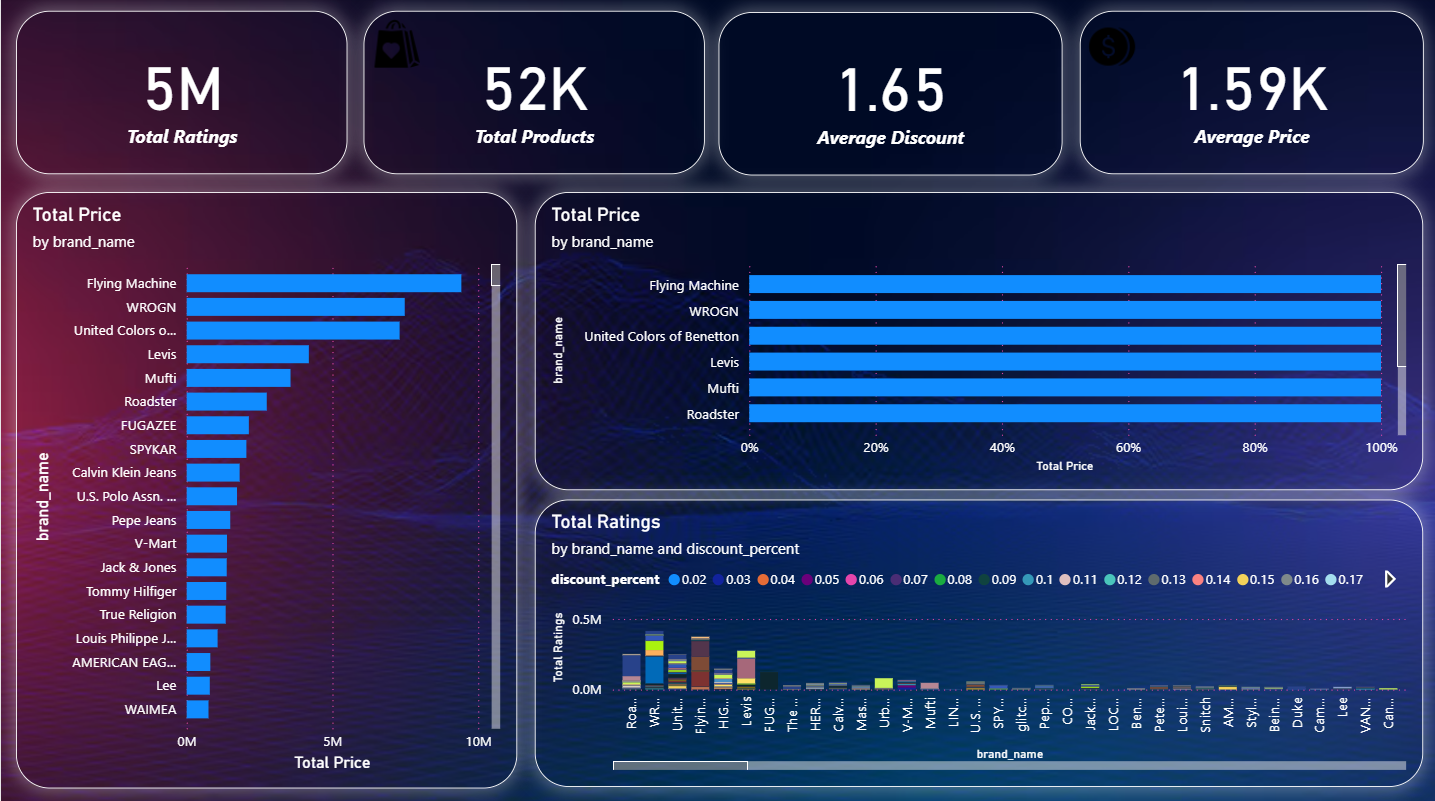

What the dashboard file says about the page in this screenshot:
{"tool":"powerbi","page":{"name":"Product performance","canvas":[1280,720],"ordinal":2},"visuals":[{"type":"card","fields":{"Values":["myntra_dataset_ByScraping.Total Ratings"]},"box":[13.3,12.1,295.6,146],"z":0},{"type":"card","fields":{"Values":["myntra_dataset_ByScraping.Total Products"]},"box":[323.3,12.1,304,146],"z":1000},{"type":"card","fields":{"Values":["myntra_dataset_ByScraping.Average Discount"]},"box":[639.4,13.3,306.4,146],"z":2000},{"type":"card","fields":{"Values":["myntra_dataset_ByScraping.Average Price"]},"box":[960.3,12.1,306.4,146],"z":3000},{"type":"barChart","fields":{"Category":["myntra_dataset_ByScraping.brand_name"],"Y":["myntra_dataset_ByScraping.Total Price"]},"box":[13.3,173.7,446.4,530.8],"z":4000},{"type":"columnChart","fields":{"Category":["myntra_dataset_ByScraping.brand_name"],"Y":["myntra_dataset_ByScraping.Total Ratings"],"Series":["myntra_dataset_ByScraping.discount_percent"]},"box":[475.3,447.5,791.5,256],"z":5000},{"type":"image","box":[323.3,13.3,60.3,54.3],"z":7000},{"type":"image","box":[960.3,13.3,56.7,61.5],"z":8000},{"type":"hundredPercentStackedBarChart","fields":{"Category":["myntra_dataset_ByScraping.brand_name"],"Y":["myntra_dataset_ByScraping.Total Price"]},"box":[475.3,173.7,791.4,265.4],"z":9000}]}

Visuals, with their boxes in screenshot pixels (x1, y1, x2, y2), scaled from the page's 1280x720 canvas onto the 1435x801 screenshot:
card - myntra_dataset_ByScraping.Total Ratings: detection(15, 13, 346, 176)
card - myntra_dataset_ByScraping.Total Products: detection(362, 13, 703, 176)
card - myntra_dataset_ByScraping.Average Discount: detection(717, 15, 1060, 177)
card - myntra_dataset_ByScraping.Average Price: detection(1077, 13, 1420, 176)
barChart - myntra_dataset_ByScraping.brand_name x myntra_dataset_ByScraping.Total Price: detection(15, 193, 515, 784)
columnChart - myntra_dataset_ByScraping.brand_name x myntra_dataset_ByScraping.Total Ratings: detection(533, 498, 1420, 783)
image: detection(362, 15, 430, 75)
image: detection(1077, 15, 1140, 83)
hundredPercentStackedBarChart - myntra_dataset_ByScraping.brand_name x myntra_dataset_ByScraping.Total Price: detection(533, 193, 1420, 488)
